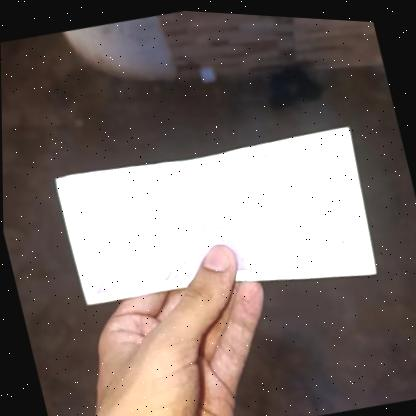one_hundred-back-vef: (51, 109, 383, 335)
